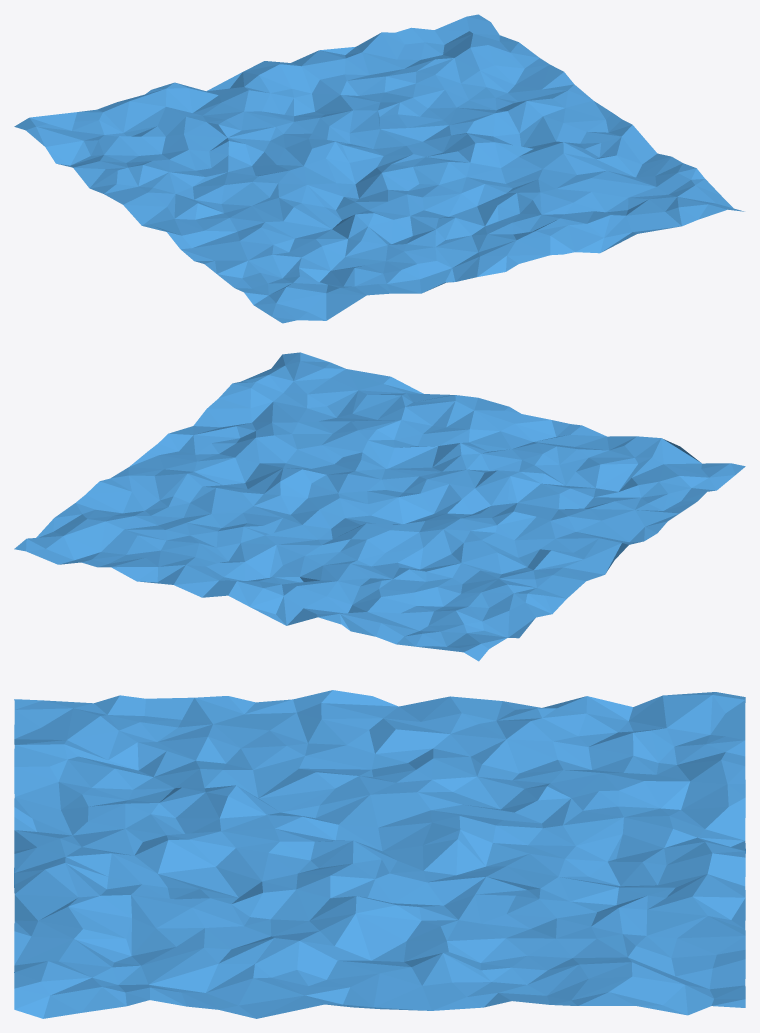
File: water.glb
The picture shows the model from 3 angles, top to bottom: view 1: azimuth 30°, elevation 25°; view 2: azimuth 150°, elevation 25°; view 3: azimuth 270°, elevation 25°; orthographic projection. The views are drawn at different scales.
Parts seen in each view (by area): view 1: Plane; view 2: Plane; view 3: Plane.
Boxes of the visible parts, x1=… form: Plane: x1=14, y1=14, x2=744, y2=323; Plane: x1=14, y1=352, x2=745, y2=661; Plane: x1=14, y1=690, x2=745, y2=1018.
Size of the model in its own units: 1.79 by 0.0936 by 1.79.
1 material, 1 textured.
